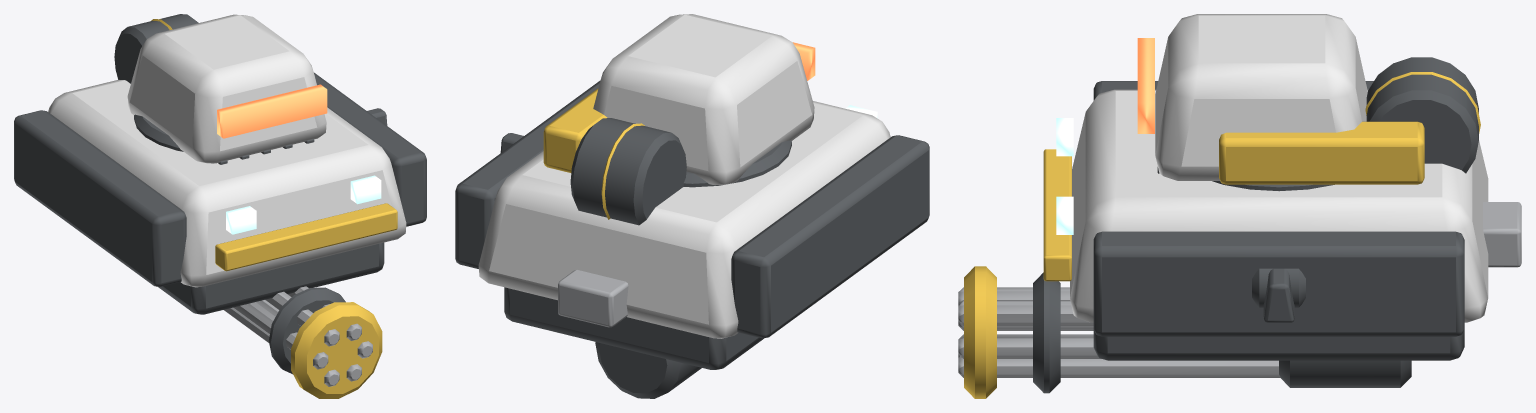
File: auto.glb
3 views of the same model, side by side, from view 1: azimuth 30°, elevation 25°; view 2: azimuth 150°, elevation 25°; view 3: azimuth 270°, elevation 25° (orthographic). The views are drawn at different scales.
Parts seen in each view (by area): view 1: Hull, Turret, Barrel; view 2: Hull, Turret, Barrel; view 3: Hull, Turret, Barrel, LegLower, LegUpper.
Part boxes in pixels (x1,y1,x2,y2): Hull: (14,14,426,314); Turret: (127,14,327,163); Barrel: (224,286,382,398); Hull: (455,80,929,369); Turret: (543,14,815,187); Barrel: (595,342,701,398); Hull: (1043,57,1521,360); Turret: (1137,14,1424,191); Barrel: (958,266,1411,398); LegLower: (1263,268,1294,322); LegUpper: (1252,268,1305,307).
Bounding box in the file's own units: 0.625 × 0.5465 × 0.7895.
